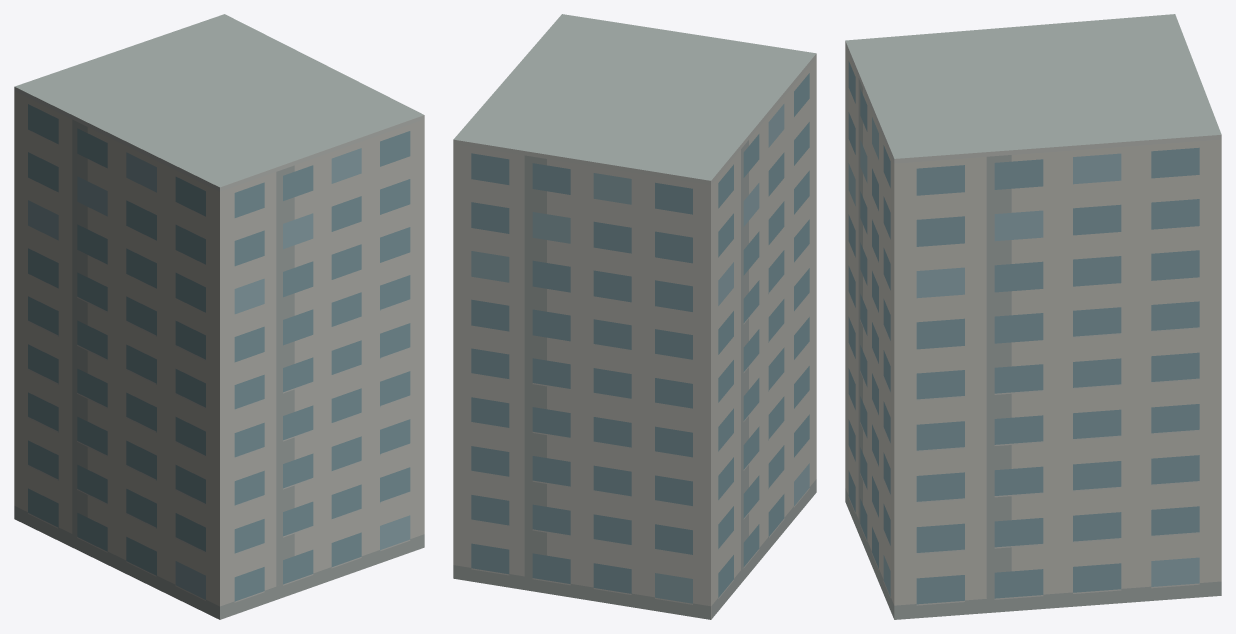
The model's file is survey-upis-32703951.glb.
3 renders of one model, left to right at view 1: azimuth 30°, elevation 25°; view 2: azimuth 150°, elevation 25°; view 3: azimuth 270°, elevation 25°, orthographic. The views are drawn at different scales.
Parts seen in each view (by area): view 1: survey-upis-32703951.tmp; view 2: survey-upis-32703951.tmp; view 3: survey-upis-32703951.tmp.
Part boxes in pixels (<box>): survey-upis-32703951.tmp: <box>14,14,424,619</box>; survey-upis-32703951.tmp: <box>453,14,816,619</box>; survey-upis-32703951.tmp: <box>845,14,1221,619</box>.
Size of the model in its own units: 16.39 by 24.3 by 17.99.
